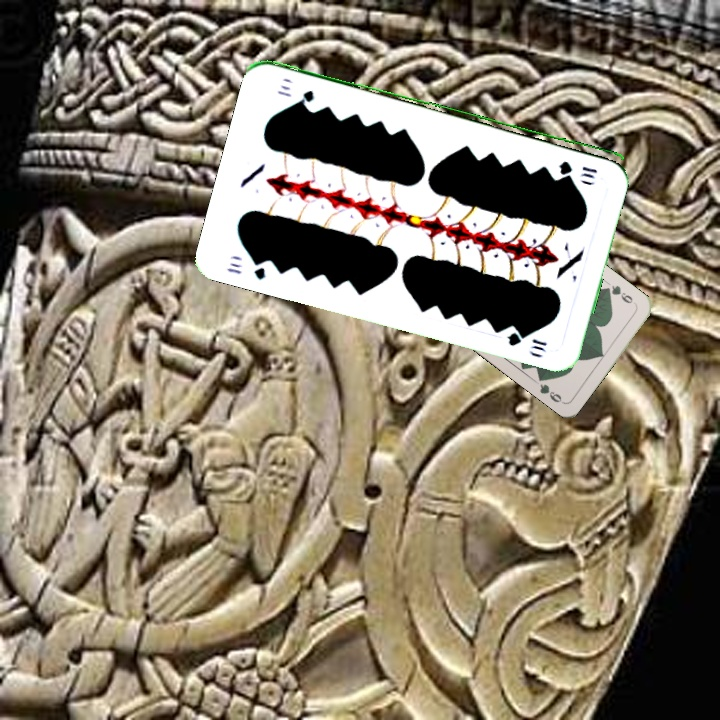G10: (223, 254, 269, 283), (555, 157, 600, 181)
G9: (601, 281, 639, 308)
